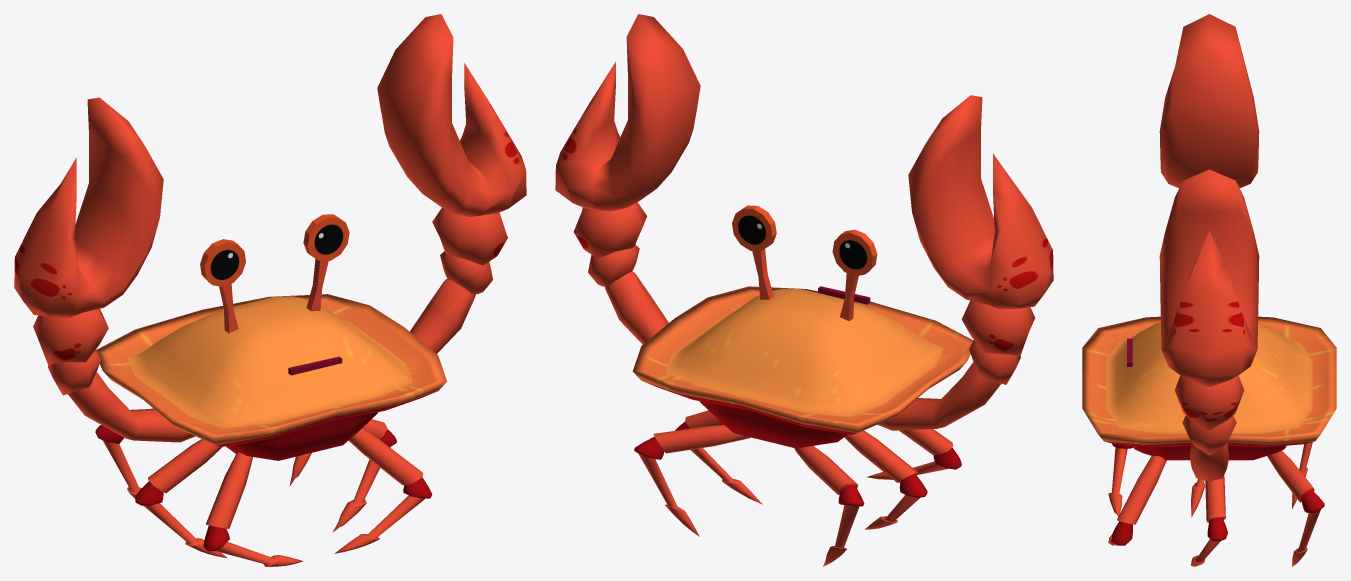
The model's file is crabby.fbx.
The picture shows the model from 3 angles, left to right: view 1: azimuth 30°, elevation 25°; view 2: azimuth 150°, elevation 25°; view 3: azimuth 270°, elevation 25°; orthographic projection. The views are drawn at different scales.
Visible parts, largest first — view 1: crabby; view 2: crabby; view 3: crabby.
Part boxes in pixels (<box>): crabby: <box>14,14,526,566</box>; crabby: <box>555,14,1053,566</box>; crabby: <box>1082,14,1336,566</box>.
Size of the model in its own units: 3.6 by 3.3 by 1.69.
1 material, 1 textured.
